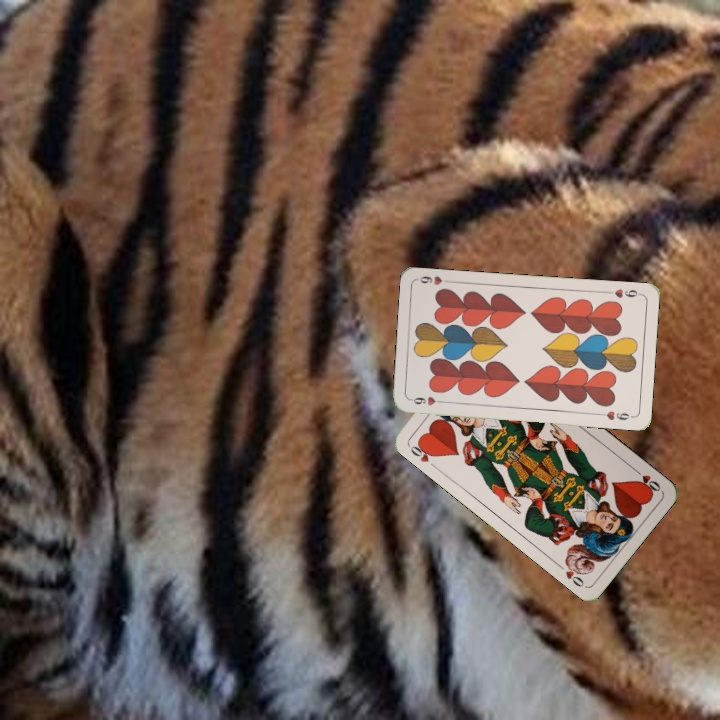H9: (407, 392, 447, 408), (603, 285, 643, 300)
HO: (405, 438, 440, 471), (629, 464, 663, 495)
